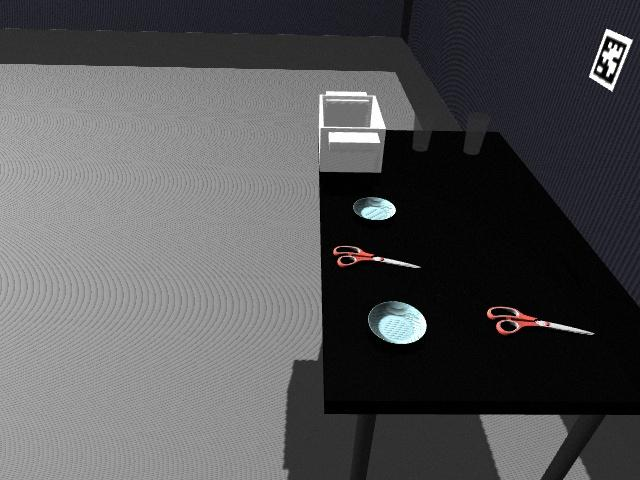cup: (462, 113, 490, 156), (412, 129, 433, 154)
plate: (367, 300, 429, 345), (352, 196, 398, 222)
scissors: (487, 305, 596, 337), (334, 244, 420, 269)
